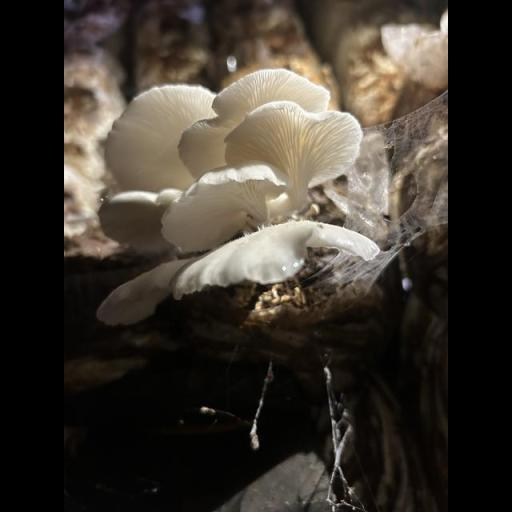White Oyster Mushroom: (100, 64, 388, 329)
